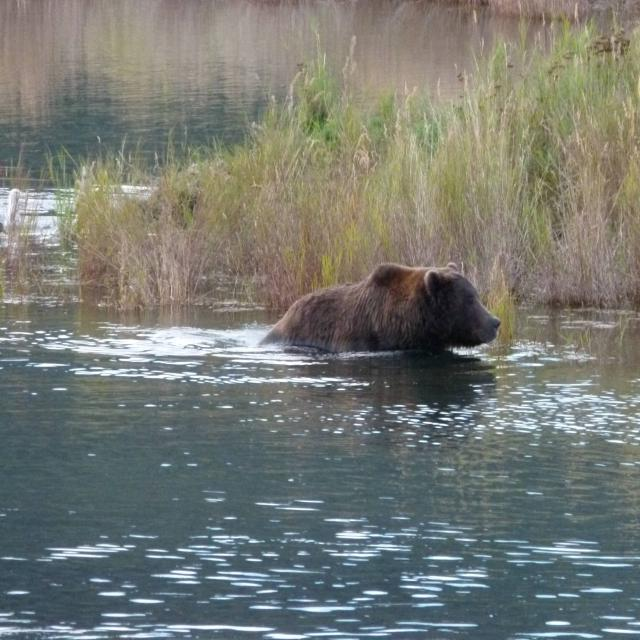bear face: (263, 260, 501, 354)
